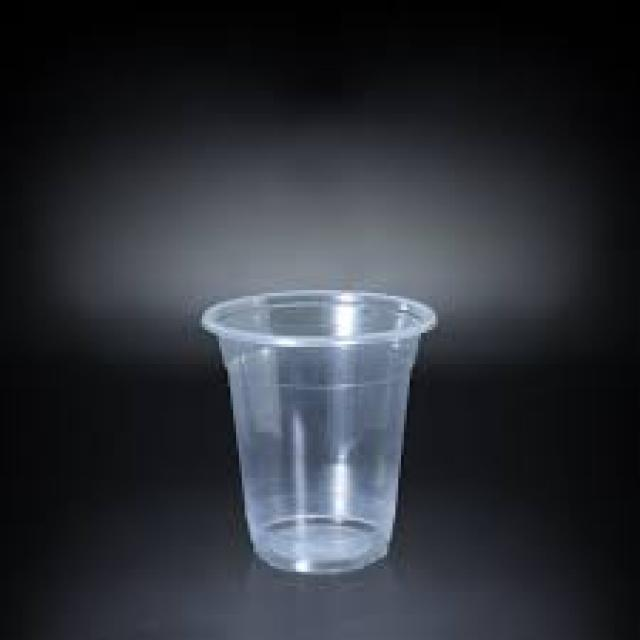plastic: (201, 290, 435, 573)
